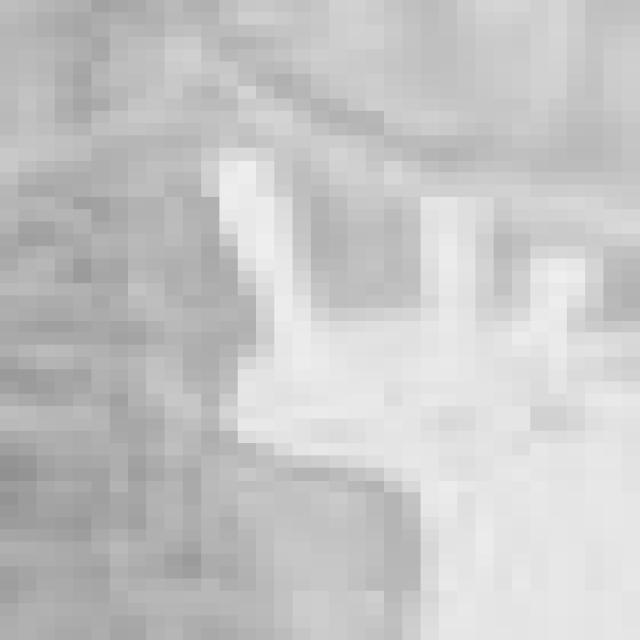fracture: (16, 0, 640, 637)
